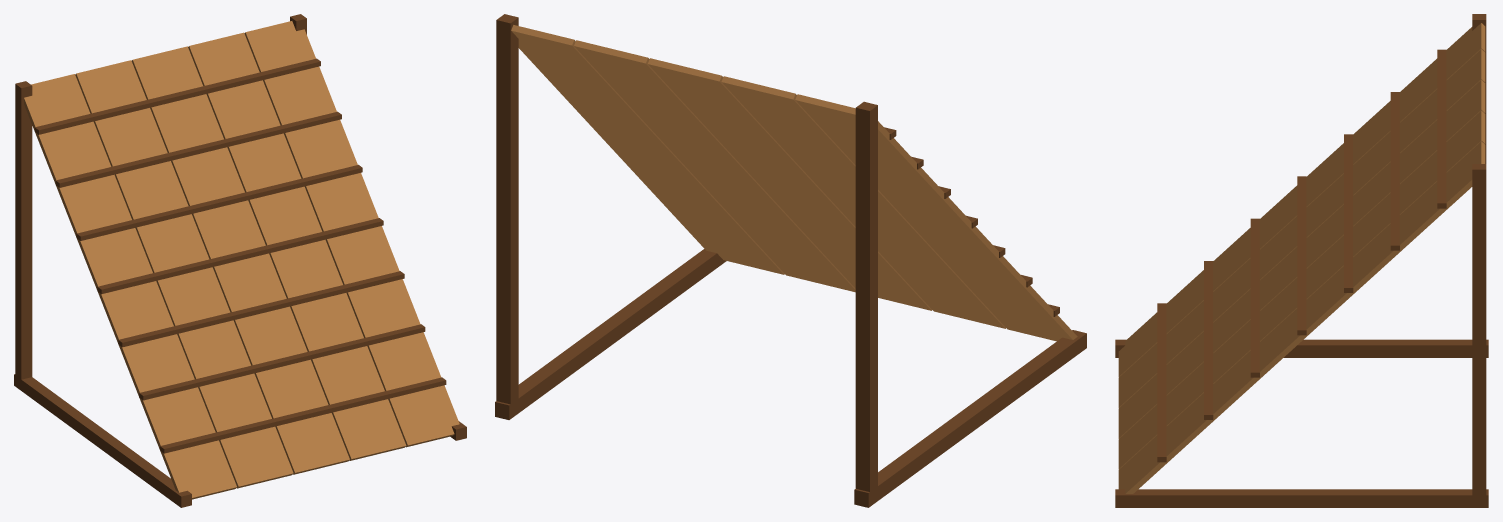
File: BuildRamp.glb
3 renders of one model, left to right at view 1: azimuth 30°, elevation 25°; view 2: azimuth 150°, elevation 25°; view 3: azimuth 270°, elevation 25°, orthographic. The views are drawn at different scales.
Parts seen in each view (by area): view 1: Planks, Steps, Supports; view 2: Planks, Supports; view 3: Planks, Supports, Steps.
Boxes of the visible parts, left/top/right/bottom form: Planks: left=24, top=21, right=459, bottom=499; Steps: left=34, top=58, right=446, bottom=453; Supports: left=14, top=14, right=466, bottom=507; Planks: left=511, top=25, right=1077, bottom=341; Supports: left=495, top=14, right=1086, bottom=507; Planks: left=1118, top=23, right=1485, bottom=493; Supports: left=1115, top=14, right=1488, bottom=507; Steps: left=1157, top=49, right=1446, bottom=462.
Bounding box in the file's own units: 3.95 × 4 × 4.
